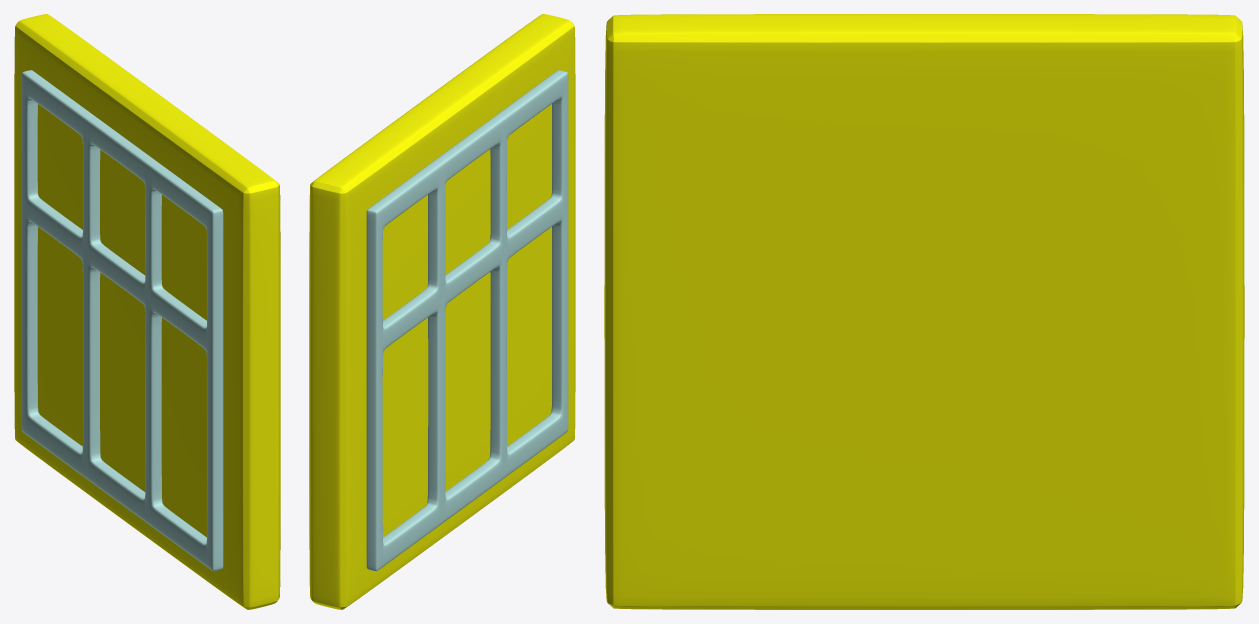
The picture shows the model from 3 angles, left to right: view 1: azimuth 30°, elevation 25°; view 2: azimuth 150°, elevation 25°; view 3: azimuth 270°, elevation 25°; orthographic projection. The views are drawn at different scales.
Parts seen in each view (by area): view 1: polySurface143784; view 2: polySurface143784; view 3: polySurface143784.
Part boxes in pixels (box(x1,y1,x2,y2)): polySurface143784: box(14, 14, 280, 609); polySurface143784: box(309, 14, 575, 609); polySurface143784: box(604, 14, 1244, 609).
Bounding box in the file's own units: 0.1253 × 0.9995 × 0.9995.
